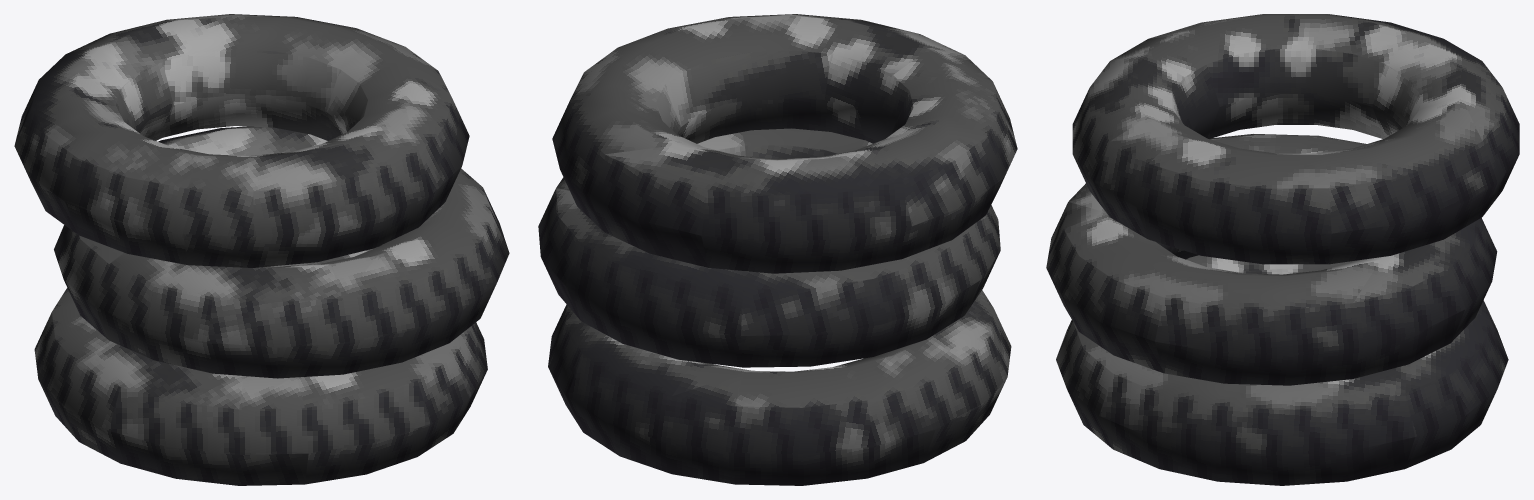
Rendered from tires.glb.
3 renders of one model, left to right at view 1: azimuth 30°, elevation 25°; view 2: azimuth 150°, elevation 25°; view 3: azimuth 270°, elevation 25°, orthographic. The views are drawn at different scales.
Parts seen in each view (by area): view 1: mesh; view 2: mesh; view 3: mesh.
Boxes of the visible parts, left/top/right/bottom form: mesh: left=14, top=14, right=509, bottom=485; mesh: left=538, top=14, right=1017, bottom=485; mesh: left=1046, top=14, right=1519, bottom=485.
Size of the model in its own units: 0.771 by 0.57 by 0.7598.
1 material, 1 textured.
